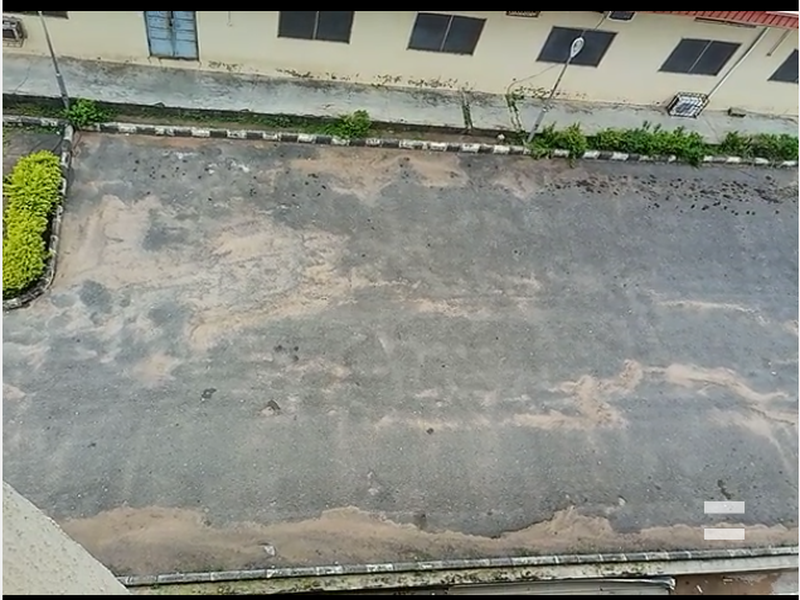four: (594, 130, 713, 324)
one: (38, 104, 195, 315)
three: (417, 130, 543, 319)
two: (262, 117, 380, 318)
